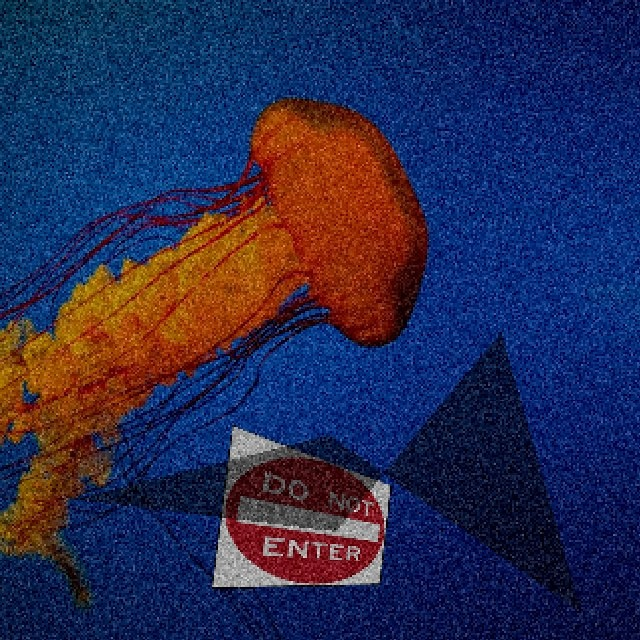DO_NOT_ENTER: (209, 423, 390, 587)
